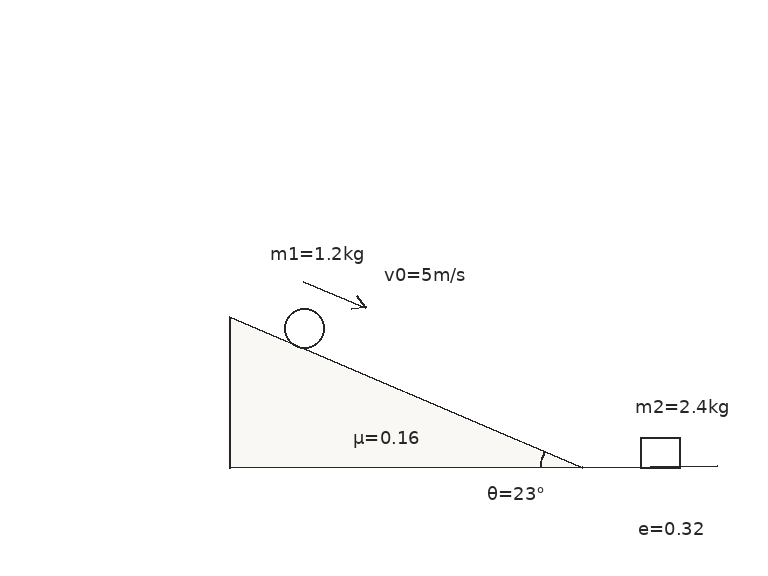ball: (282, 306, 326, 350)
block: (638, 436, 682, 469)
ramp: (226, 315, 583, 469)
